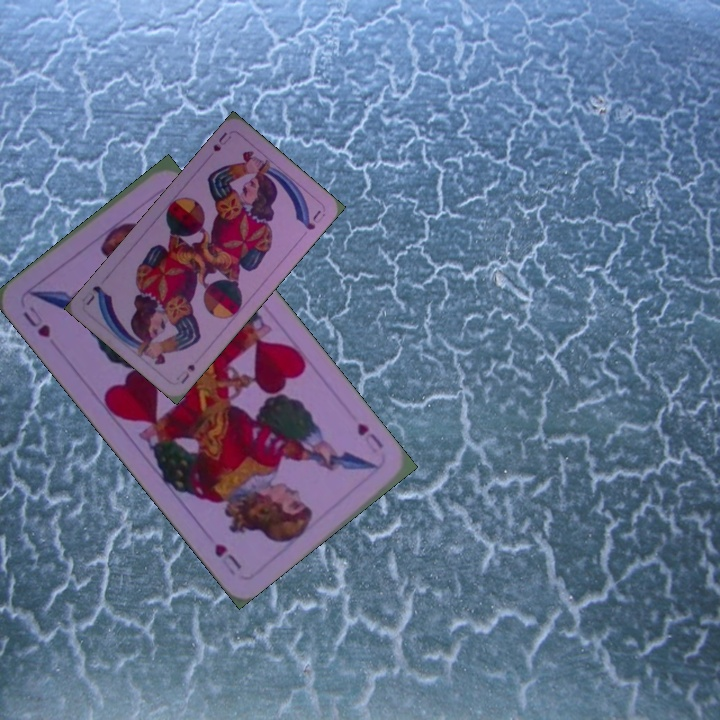HU: (18, 302, 53, 341), (353, 419, 387, 457)
SU: (172, 360, 198, 387), (209, 127, 234, 154)
